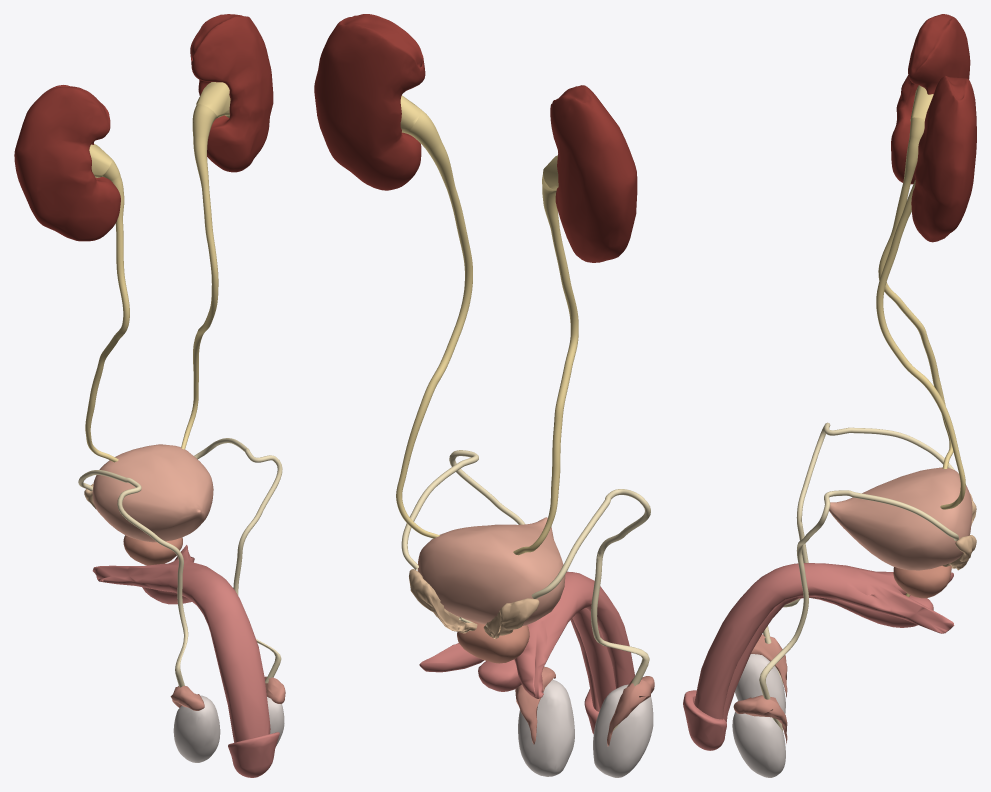
Rendered from male-urogenital.glb.
3 views of the same model, side by side, from view 1: azimuth 30°, elevation 25°; view 2: azimuth 150°, elevation 25°; view 3: azimuth 270°, elevation 25° (orthographic). The views are drawn at different scales.
Parts seen in each view (by area): view 1: Kidney_R, Corpus_cavernosum_of_penis, Kidney_L, Urinary_bladder, Ureter_L, Ureter_R, Testis_R, Ductus_deferens_R, Ductus_deferens_L, Glans_penis, Prostate, Renal_pelvis_L (+3 smaller); view 2: Kidney_L, Kidney_R, Urinary_bladder, Corpus_cavernosum_of_penis, Ureter_L, Testis_L, Testis_R, Ureter_R, Corpus_spongiosum_of_penis, Ductus_deferens_R, Prostate, Ductus_deferens_L (+4 smaller); view 3: Corpus_cavernosum_of_penis, Urinary_bladder, Kidney_L, Kidney_R, Testis_L, Ureter_L, Ureter_R, Ductus_deferens_L, Corpus_spongiosum_of_penis, Ductus_deferens_R, Testis_R, Glans_penis (+4 smaller).
Part boxes in pixels (left/top/right/bottom): Kidney_R: left=14, top=85, right=120, bottom=241; Corpus_cavernosum_of_penis: left=92, top=545, right=270, bottom=742; Kidney_L: left=190, top=14, right=273, bottom=172; Urinary_bladder: left=92, top=444, right=213, bottom=542; Ureter_L: left=181, top=104, right=218, bottom=449; Ureter_R: left=85, top=159, right=129, bottom=462; Testis_R: left=173, top=695, right=220, bottom=762; Ductus_deferens_R: left=78, top=470, right=188, bottom=687; Ductus_deferens_L: left=194, top=438, right=282, bottom=683; Glans_penis: left=228, top=732, right=279, bottom=777; Prostate: left=123, top=535, right=182, bottom=565; Renal_pelvis_L: left=196, top=82, right=230, bottom=117; Kidney_L: left=314, top=14, right=425, bottom=190; Kidney_R: left=550, top=85, right=637, bottom=262; Urinary_bladder: left=417, top=517, right=565, bottom=626; Corpus_cavernosum_of_penis: left=419, top=571, right=634, bottom=711; Ureter_L: left=396, top=109, right=472, bottom=538; Testis_L: left=518, top=679, right=574, bottom=776; Testis_R: left=593, top=684, right=653, bottom=777; Ureter_R: left=513, top=175, right=578, bottom=555; Corpus_spongiosum_of_penis: left=478, top=608, right=615, bottom=710; Ductus_deferens_R: left=531, top=489, right=650, bottom=730; Prostate: left=457, top=621, right=529, bottom=663; Ductus_deferens_L: left=401, top=450, right=524, bottom=569; Corpus_cavernosum_of_penis: left=694, top=563, right=954, bottom=719; Urinary_bladder: left=829, top=467, right=972, bottom=570; Kidney_L: left=911, top=75, right=976, bottom=242; Kidney_R: left=891, top=14, right=970, bottom=184; Testis_L: left=732, top=712, right=785, bottom=777; Ureter_L: left=876, top=180, right=965, bottom=509; Ureter_R: left=878, top=117, right=953, bottom=468; Ductus_deferens_L: left=759, top=490, right=958, bottom=731; Corpus_spongiosum_of_penis: left=722, top=595, right=933, bottom=733; Ductus_deferens_R: left=763, top=422, right=954, bottom=683; Testis_R: left=735, top=654, right=785, bottom=713; Glans_penis: left=683, top=690, right=726, bottom=750.
Size of the model in its own units: 0.1638 by 0.4068 by 0.1489.
